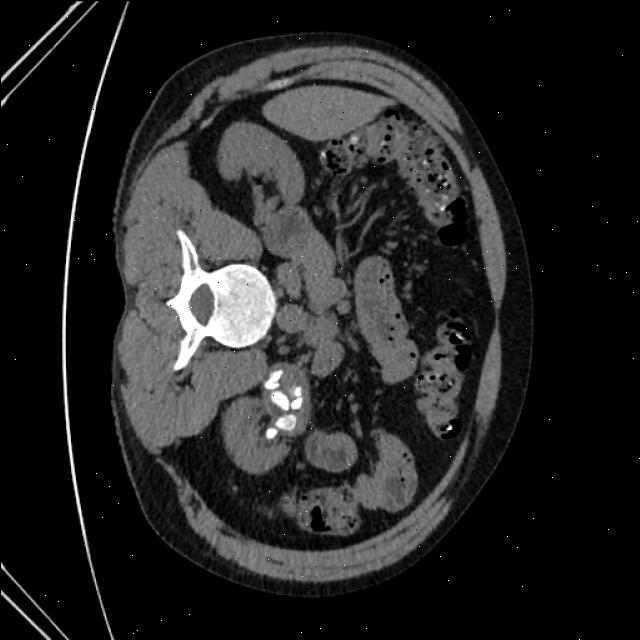kidneystone: (257, 409, 284, 445), (263, 371, 282, 390), (270, 391, 288, 409), (289, 386, 300, 410), (276, 420, 295, 426)
